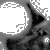node 1: (1, 4, 29, 35)
